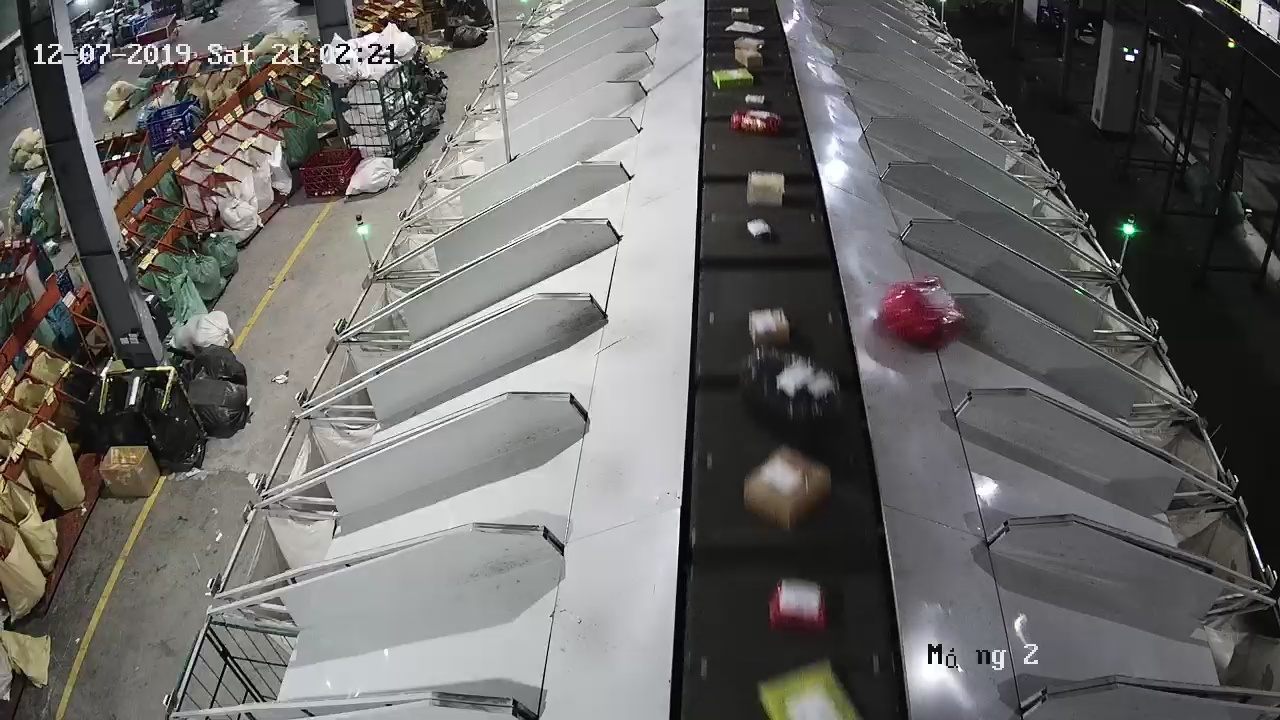parcel: (880, 274, 967, 350)
